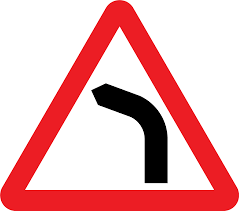Bend_to_left: (1, 1, 238, 211)
